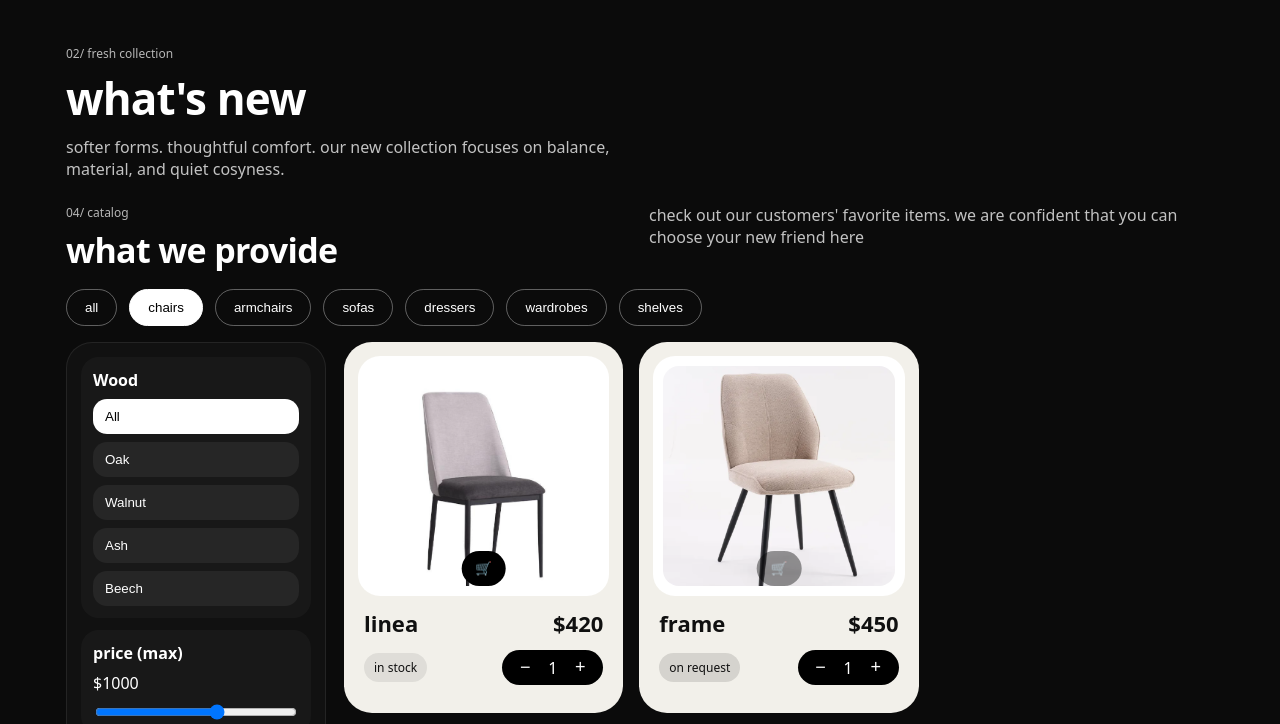
Test case: Material filter + add to cart updates CartSummary (integration)
Note: Filter material to Oak
Step 1. Click the button "Oak" → (196,460), box x1=93 y1=442 x2=299 y2=477
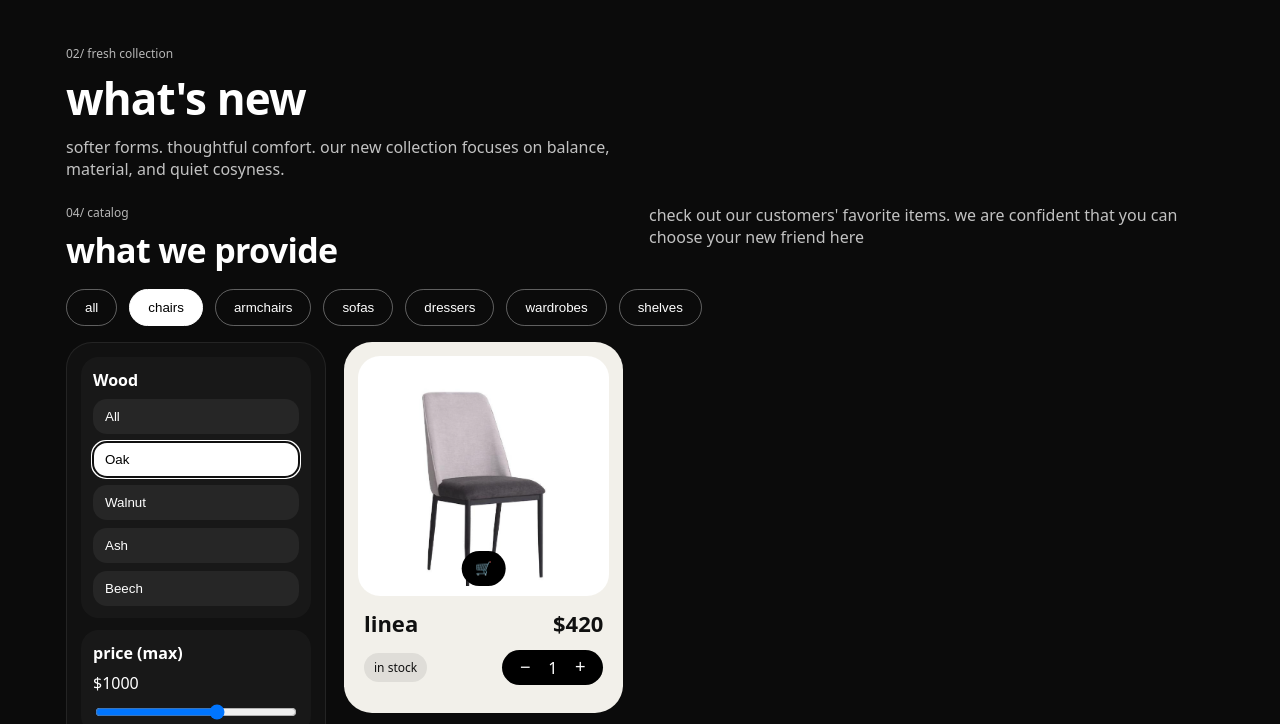
Expected: the text "linea" is shown, x1=364 y1=608 x2=418 y2=638
Note: Add linea to cart
Step 2. Click the button named "add linea to cart" → (484,568), box x1=461 y1=551 x2=506 y2=586
(page scrolled)
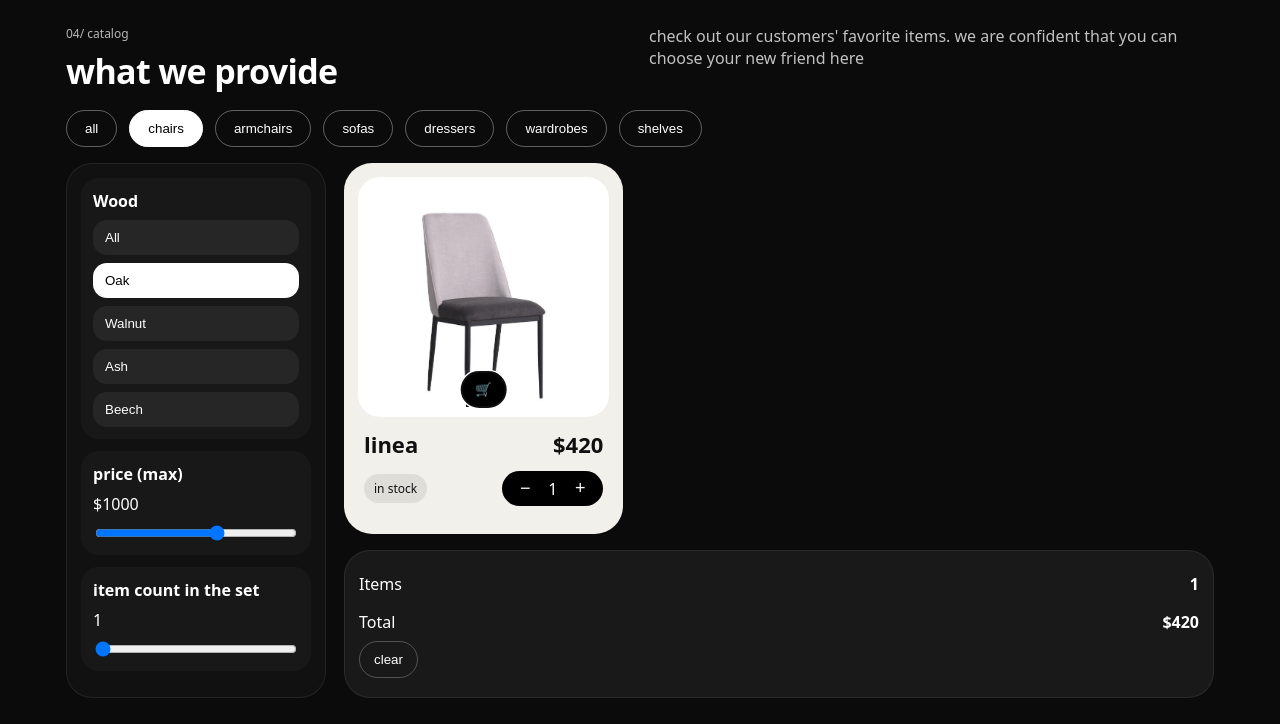
Expected: the text named "Cart total items" reads "1", x1=1190 y1=572 x2=1199 y2=594
Expected: the text named "Cart total price" reads "$420", x1=1162 y1=610 x2=1199 y2=632
